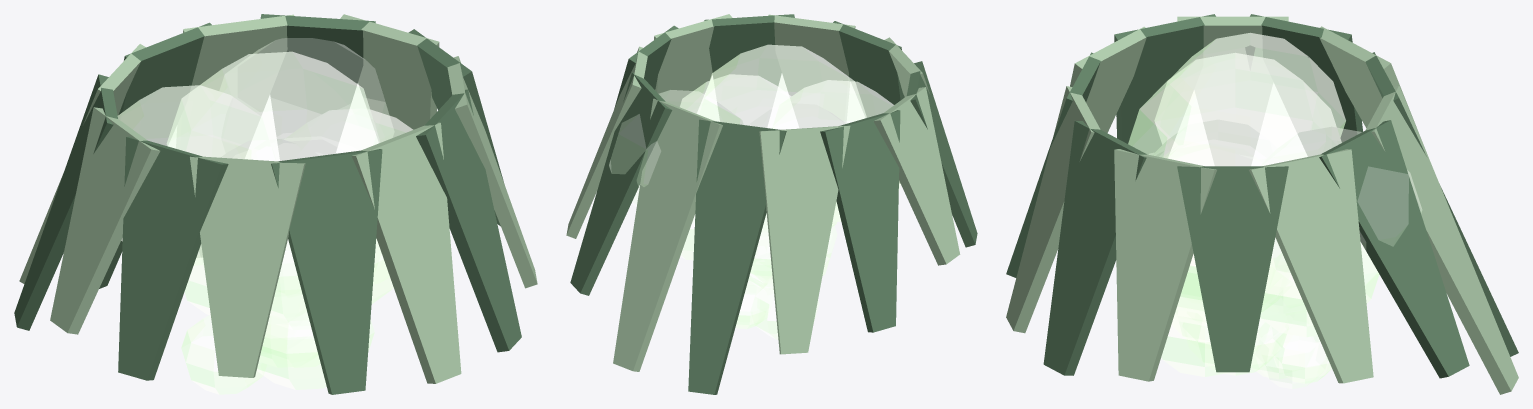
File: hungry_ghost_tail.glb
3 views of the same model, side by side, from view 1: azimuth 30°, elevation 25°; view 2: azimuth 150°, elevation 25°; view 3: azimuth 270°, elevation 25° (orthographic). The views are drawn at different scales.
Parts seen in each view (by area): view 1: hungry_ghost_tail; view 2: hungry_ghost_tail; view 3: hungry_ghost_tail.
Part boxes in pixels (x1=…): hungry_ghost_tail: x1=14, y1=14, x2=537, y2=394; hungry_ghost_tail: x1=566, y1=14, x2=977, y2=394; hungry_ghost_tail: x1=1006, y1=14, x2=1518, y2=394.
Bounding box in the file's own units: 0.9835 × 0.7073 × 1.01.
